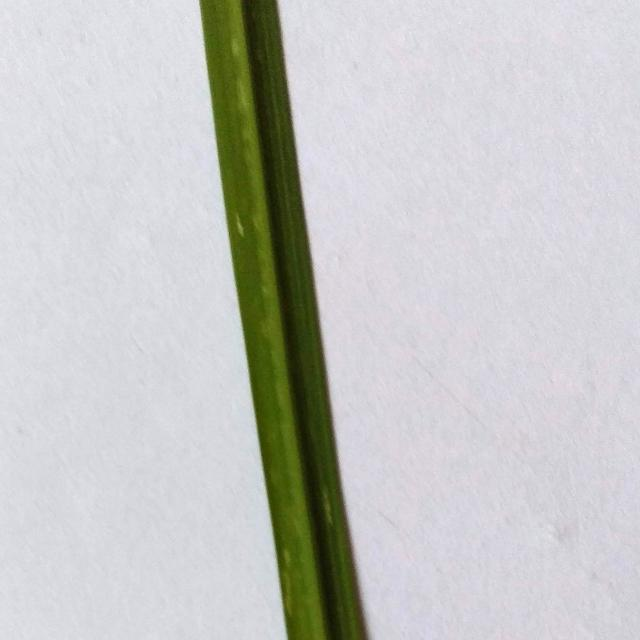Rice_Healthy: (200, 0, 368, 640)
